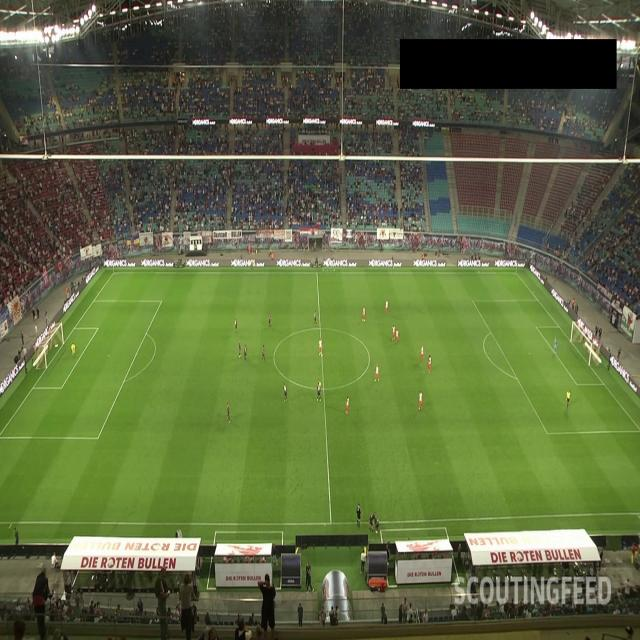ball: (321, 354, 324, 359)
player: (418, 389, 424, 413), (552, 334, 558, 356), (226, 401, 231, 423), (317, 382, 322, 404), (70, 342, 78, 355), (261, 344, 266, 362), (375, 364, 380, 382), (244, 344, 248, 363), (234, 317, 239, 332), (346, 396, 350, 414), (362, 305, 366, 323), (395, 329, 400, 343), (267, 312, 271, 328), (420, 346, 424, 362), (284, 382, 287, 402), (428, 354, 431, 374), (314, 309, 318, 323), (238, 340, 241, 358), (319, 338, 322, 356), (392, 325, 395, 339), (386, 299, 388, 312)
